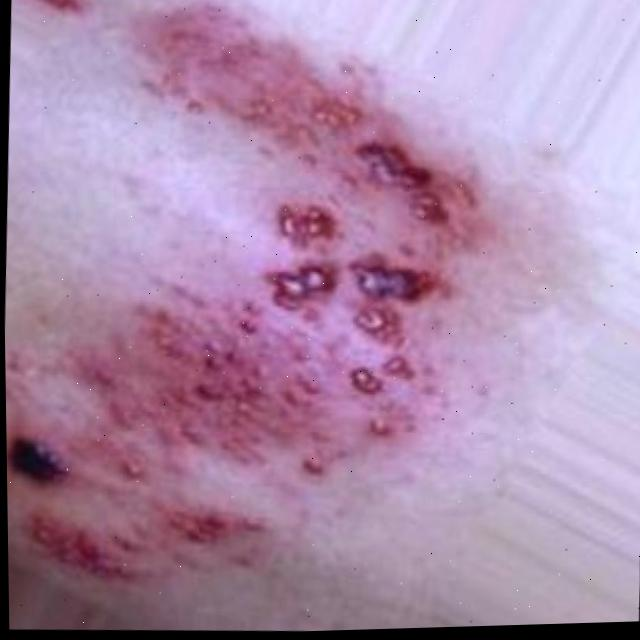Shingles: (0, 0, 489, 599)
